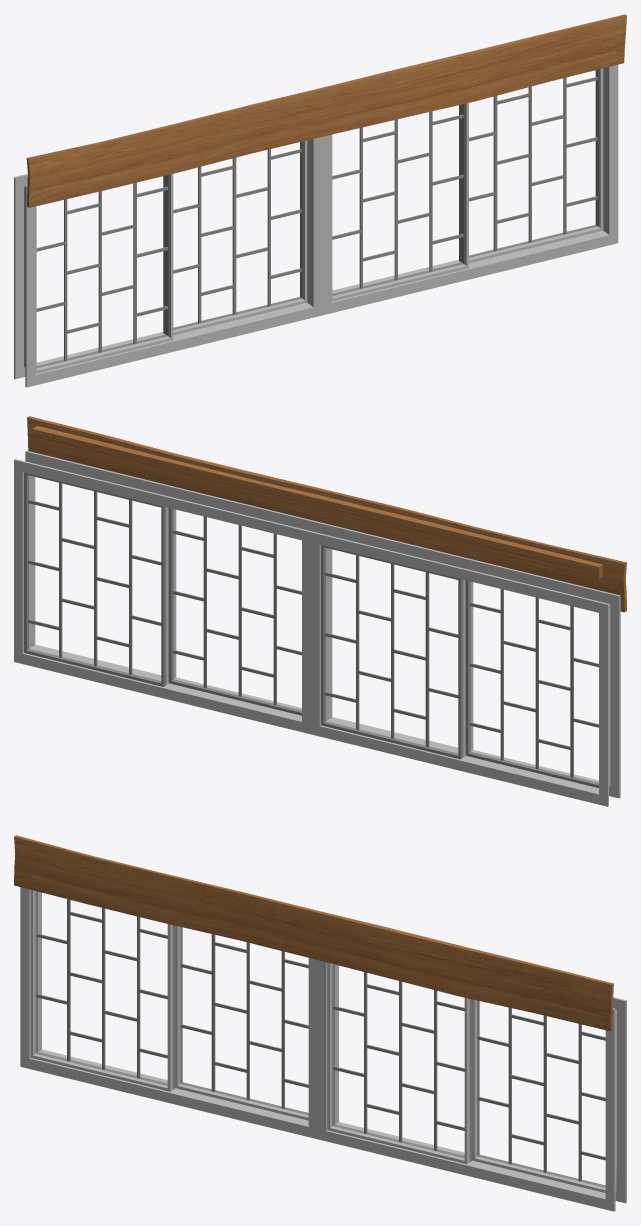
Rendered from MainWindow.FBX.
3 renders of one model, top to bottom at view 1: azimuth 30°, elevation 25°; view 2: azimuth 150°, elevation 25°; view 3: azimuth 330°, elevation 25°, orthographic.
Visible parts, largest first — view 1: Main Window; view 2: Main Window; view 3: Main Window.
Boxes of the visible parts, <box> form: Main Window: <box>14,14,626,387</box>; Main Window: <box>14,416,626,806</box>; Main Window: <box>14,835,626,1211</box>.
Bounding box in the file's own units: 136 × 50.44 × 7.27.
